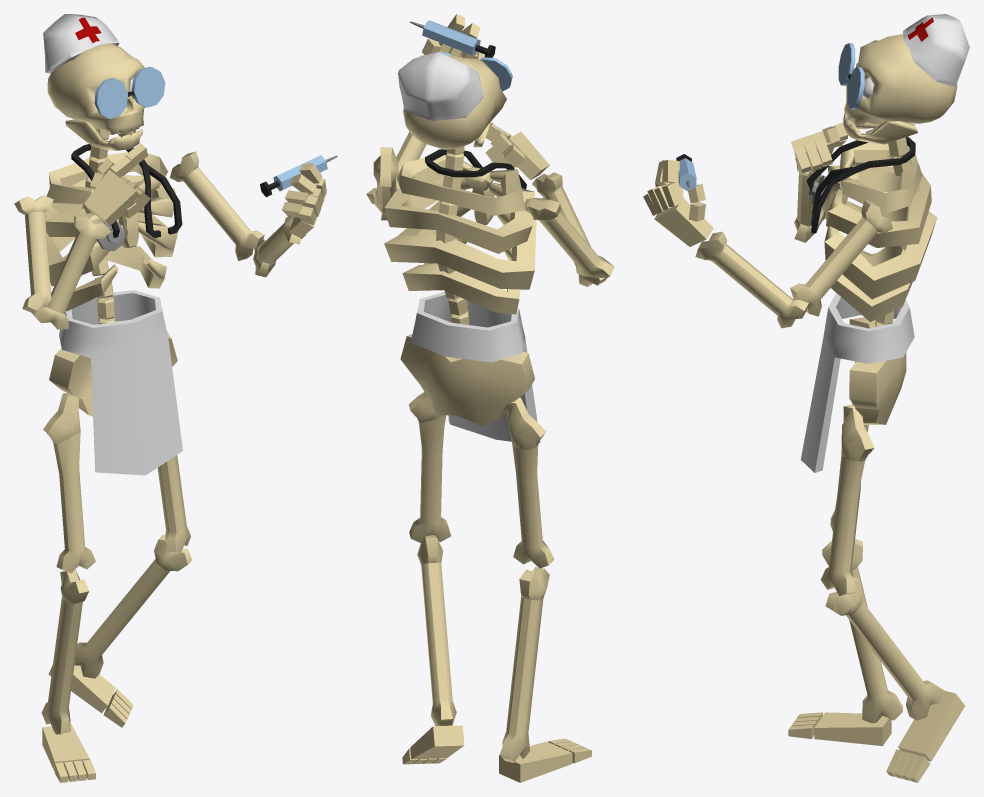
File: skeleton_NURSE_frame01.fbx
The picture shows the model from 3 angles, left to right: view 1: azimuth 30°, elevation 25°; view 2: azimuth 150°, elevation 25°; view 3: azimuth 270°, elevation 25°; orthographic projection. The views are drawn at different scales.
Parts seen in each view (by area): view 1: skeleton_nurse_frame01; view 2: skeleton_nurse_frame01; view 3: skeleton_nurse_frame01.
Boxes of the visible parts, x1,y1,x2,y2 form: skeleton_nurse_frame01: (14,14,337,782); skeleton_nurse_frame01: (366,14,614,782); skeleton_nurse_frame01: (643,14,969,782).
Bounding box in the file's own units: 69.81 × 184 × 73.15.
